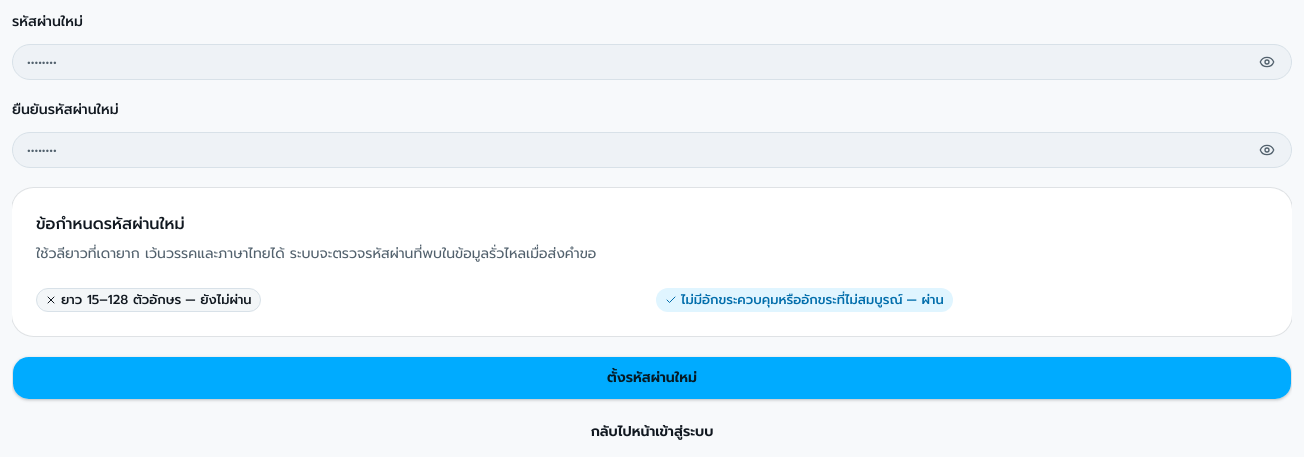
Test: ResetPasswordForm › replaces the form with one safe invalid-link state after token rejection
Type "NewPassphrase123!" into the password field labelled "รหัสผ่านใหม่" at coordinates (632, 62), box 13,40 -> 1251,84
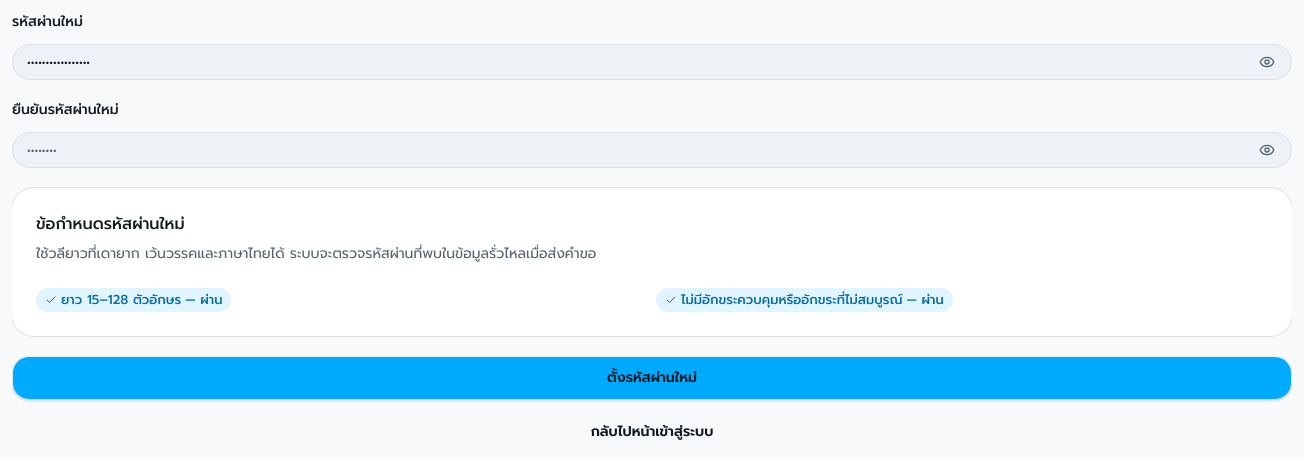
Type "NewPassphrase123!" into the password field labelled "ยืนยันรหัสผ่านใหม่" at coordinates (632, 150), box 13,128 -> 1251,172
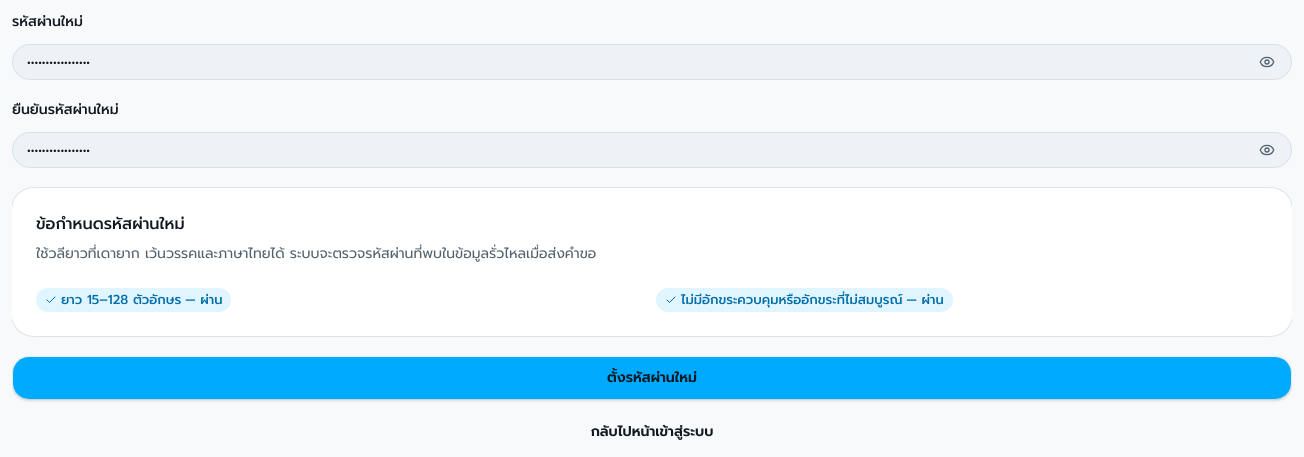
Submit the form labelled "รหัสผ่านใหม่"
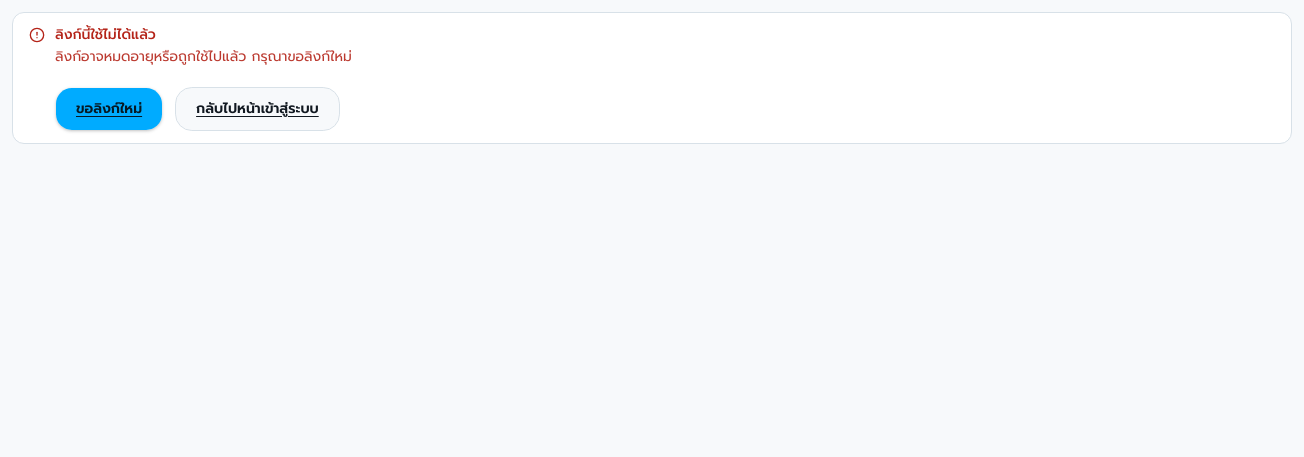
Expected: the text "ลิงก์นี้ใช้ไม่ได้แล้ว" is shown, 55,24 -> 156,45
Expected: no labels labelled "รหัสผ่านใหม่" are shown
Expected: the link "ขอลิงก์ใหม่" is shown, 55,87 -> 163,131
